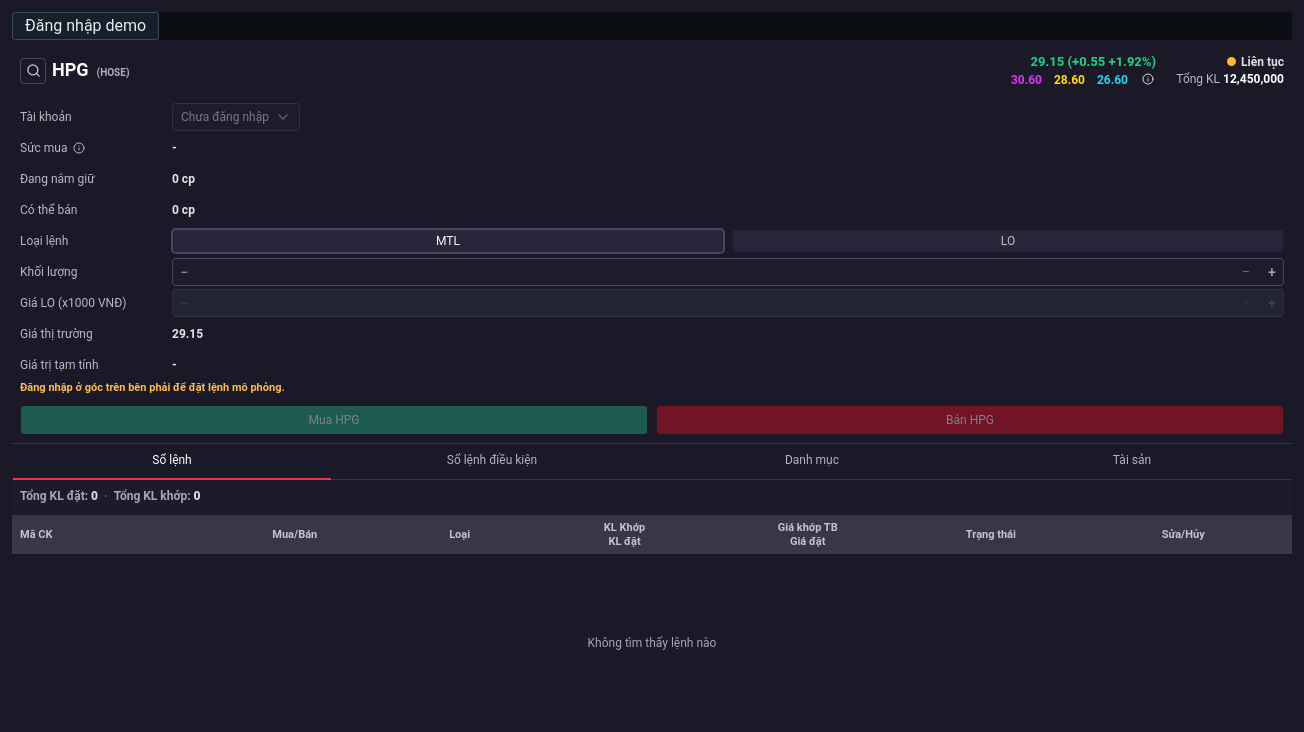
Test: OrderTicketPanel › shows a business message when the API rejects an order outside market hours
The image size is (1304, 732).
Click the button "Đăng nhập demo" at (86, 26), box [12,12,159,40]
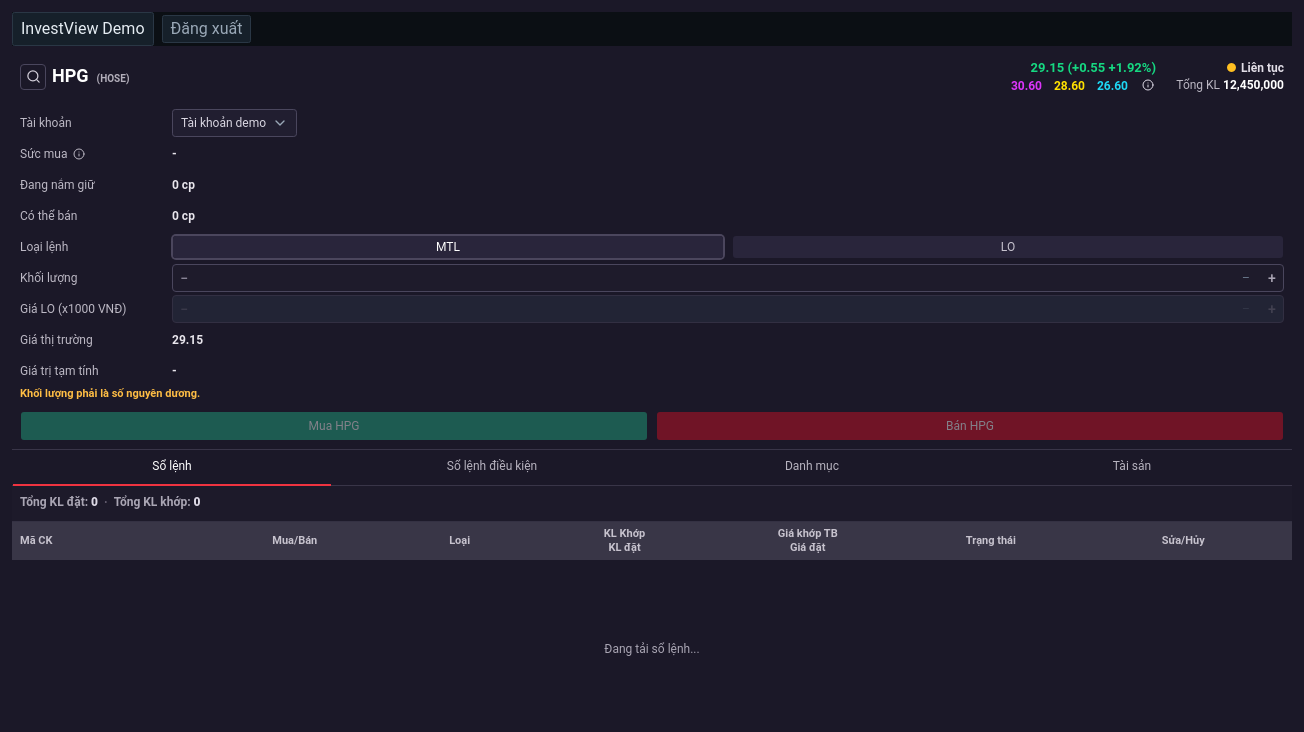
Check: the button "Mua HPG" is shown, box [20,410,648,440]
Type "100" into the field named "Khối lượng" at (728, 278), box [200,264,1256,290]
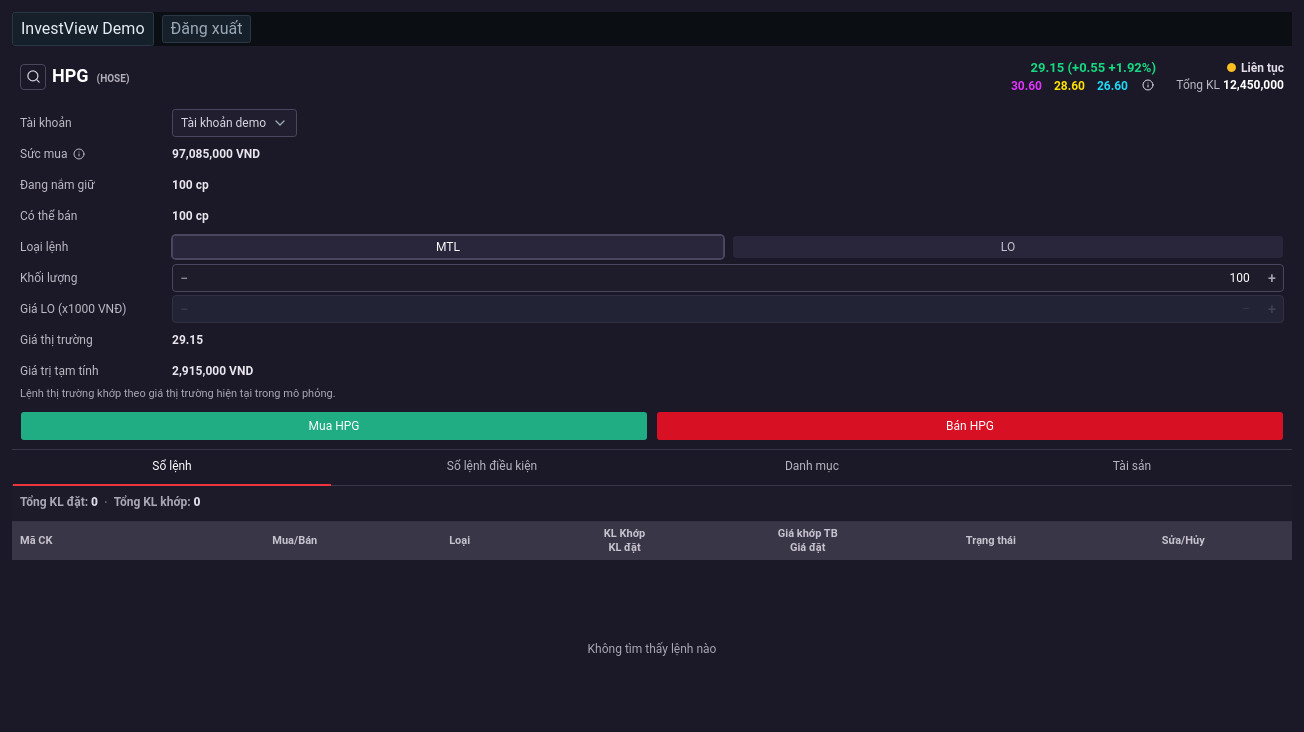
Click the button "Mua HPG" at (334, 426), box [20,410,648,440]
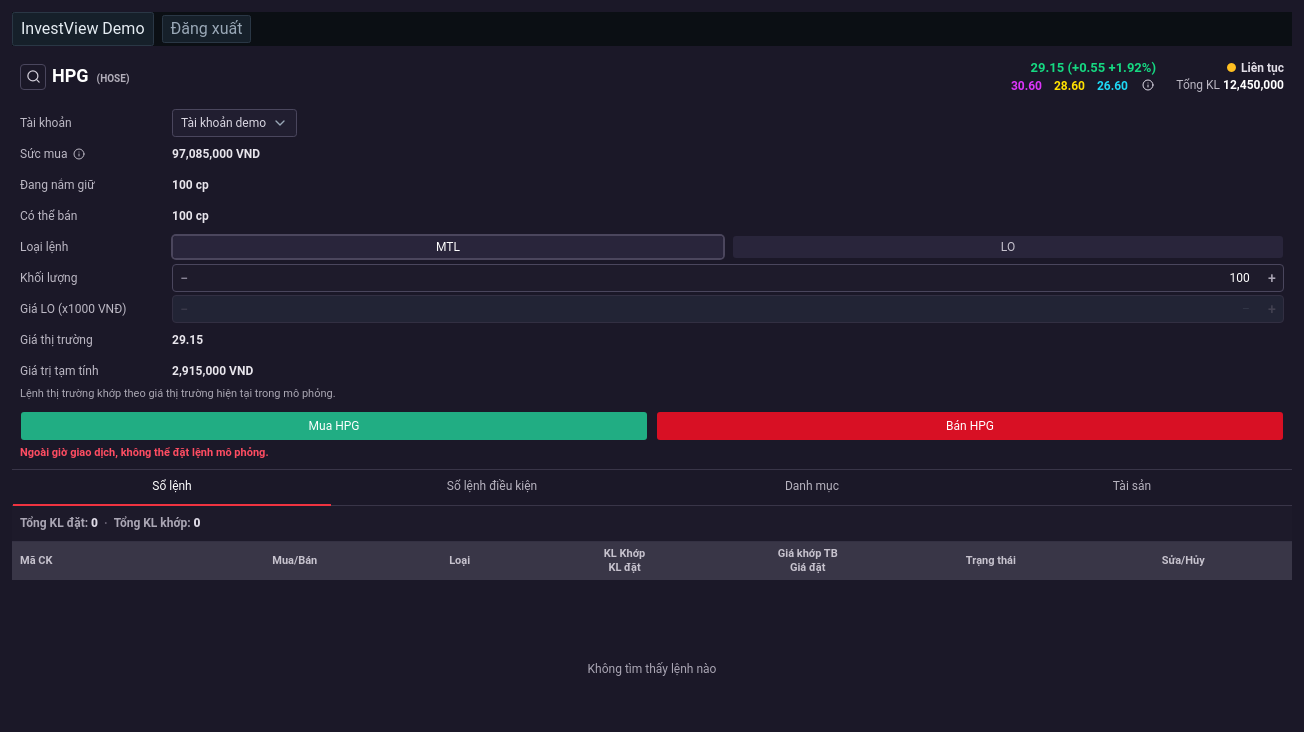
Check: the message reads "Ngoài giờ giao dịch, không thể đặt lệnh mô phỏng.", box [20,446,269,458]
